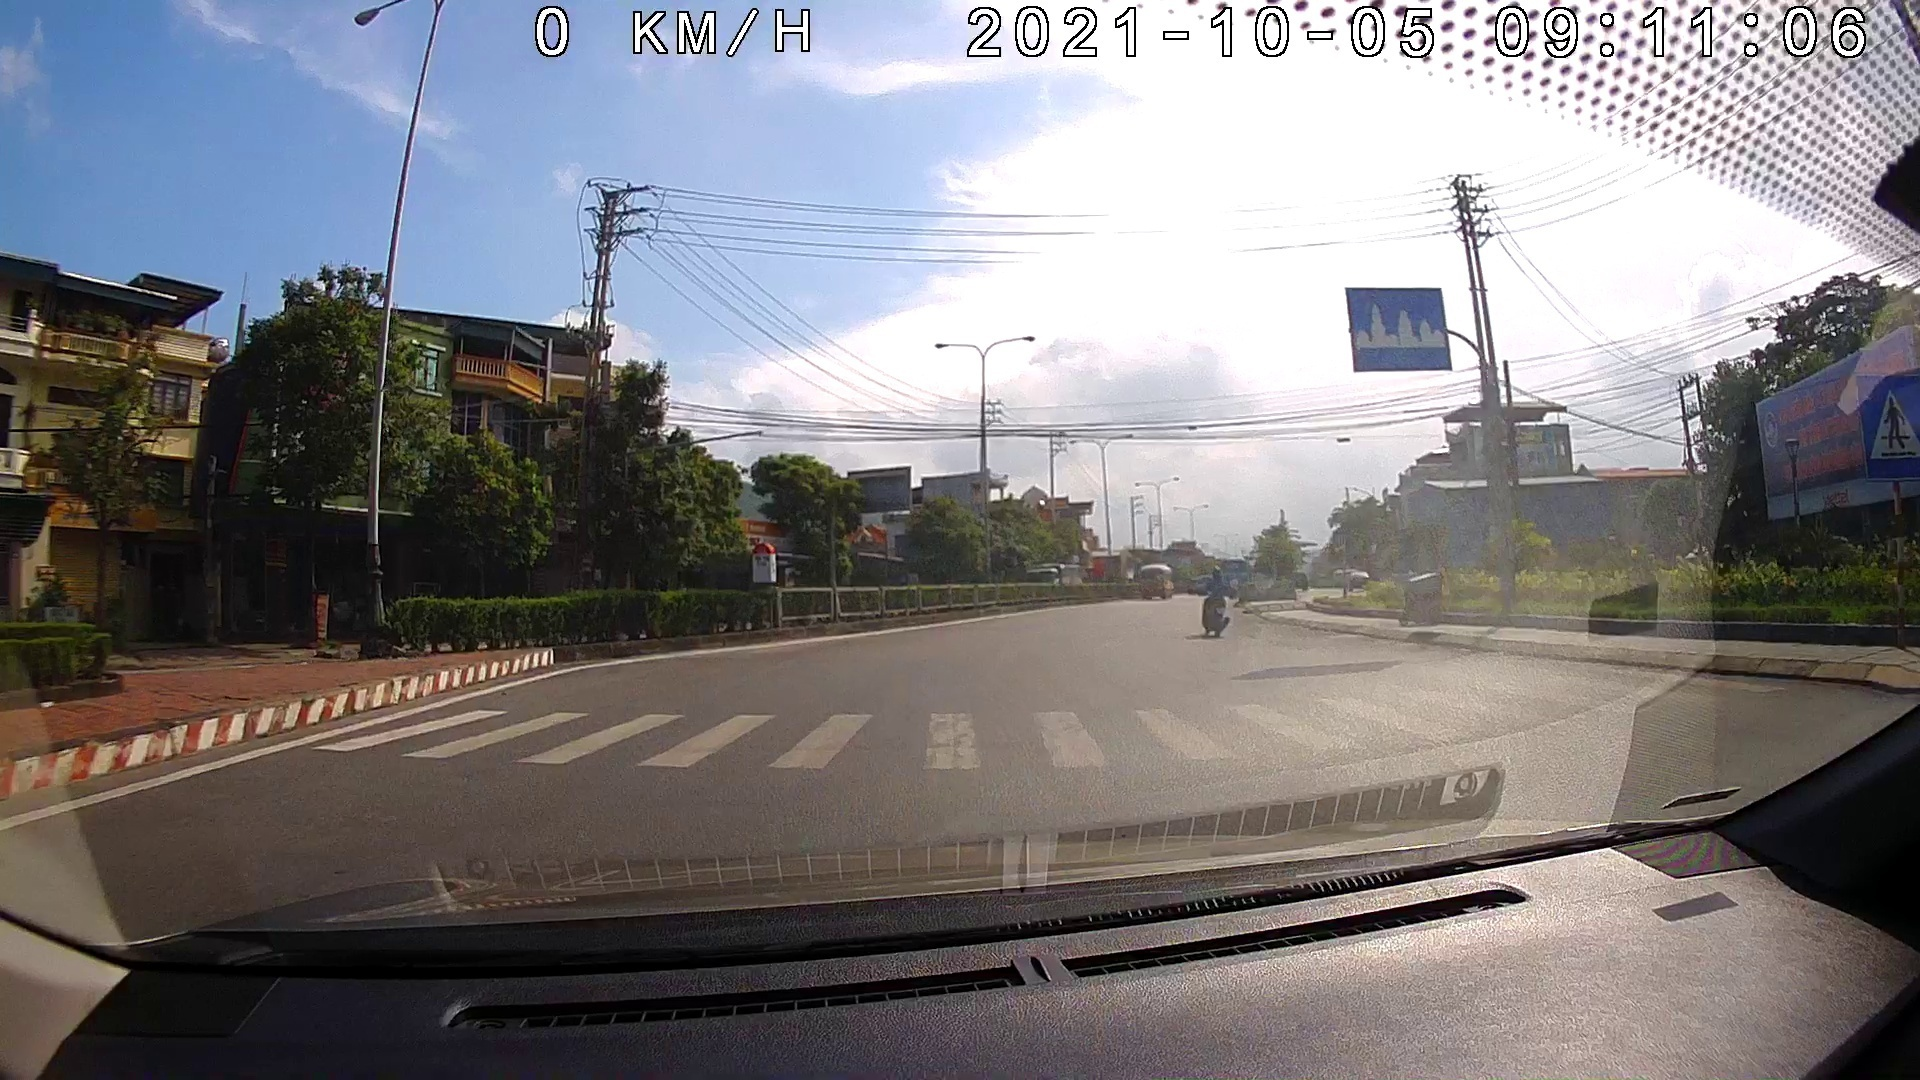Bien khac: (1342, 282, 1453, 371)
Nguoi di bo: (1853, 371, 1919, 481)
